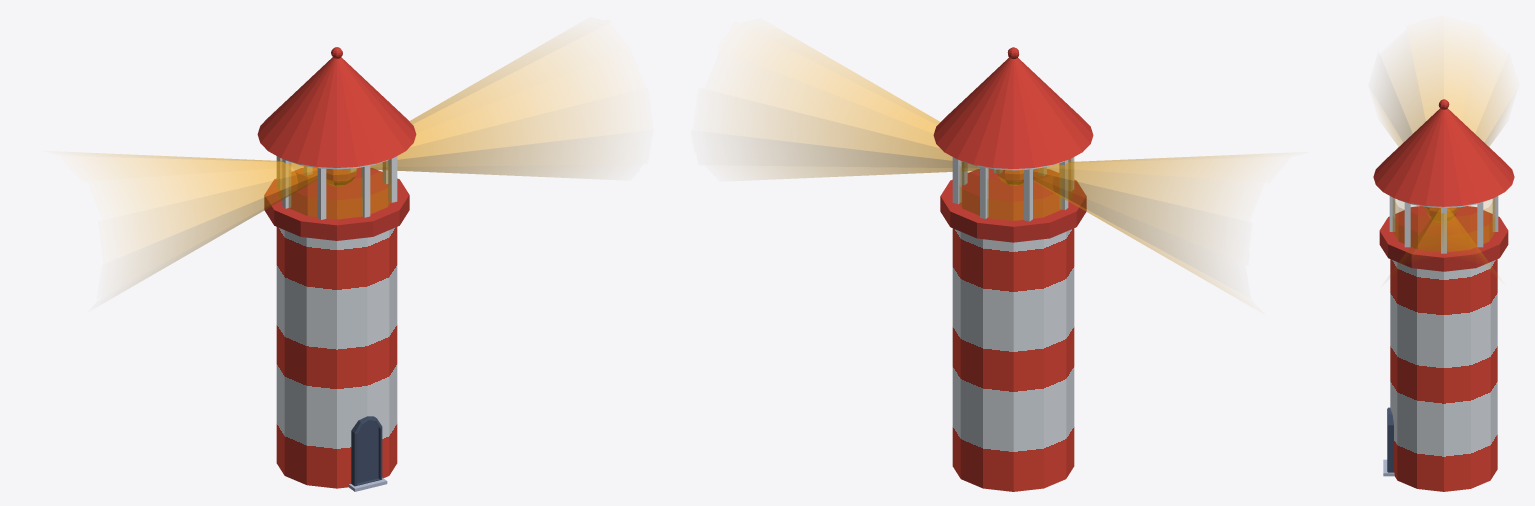
Rendered from farol-aceso.glb.
The picture shows the model from 3 angles, left to right: view 1: azimuth 30°, elevation 25°; view 2: azimuth 150°, elevation 25°; view 3: azimuth 270°, elevation 25°; orthographic projection. The views are drawn at different scales.
Parts seen in each view (by area): view 1: Torre branca, Cilindro, Cilindro (cópia), Telhado, Base da lanterna, Vidro da lanterna, Porta; view 2: Torre branca, Cilindro, Cilindro (cópia), Telhado, Base da lanterna, Vidro da lanterna; view 3: Torre branca, Telhado, Cilindro (cópia), Base da lanterna, Vidro da lanterna, Cilindro, Porta, Moldura 2, Moldura 8, lampada, Moldura 1, Moldura 3 (+1 smaller).
Boxes of the visible parts, x1,y1,x2,y2 form: Torre branca: (276,227,397,488); Cilindro: (370,42,598,177); Cilindro (cópia): (94,153,317,285); Telhado: (257,57,416,167); Base da lanterna: (264,167,409,240); Vidro da lanterna: (278,157,390,219); Porta: (351,416,382,486); Torre branca: (952,228,1074,491); Cilindro: (747,43,979,178); Cilindro (cópia): (1033,154,1258,288); Telhado: (933,57,1093,168); Base da lanterna: (940,168,1086,242); Vidro da lanterna: (959,158,1072,220); Torre branca: (1390,259,1497,491); Telhado: (1373,108,1514,206); Cilindro (cópia): (1381,48,1506,146); Base da lanterna: (1379,206,1508,271); Vidro da lanterna: (1392,198,1495,252); Cilindro: (1394,208,1493,269); Porta: (1387,407,1393,472); Moldura 2: (1404,202,1410,247); Moldura 8: (1477,202,1483,247); lampada: (1424,207,1458,222); Moldura 1: (1441,208,1446,253); Moldura 3: (1389,196,1395,231).
Size of what is drawn, in the model's own units: 7.48 by 5.31 by 2.
19 materials, 6 textured.
